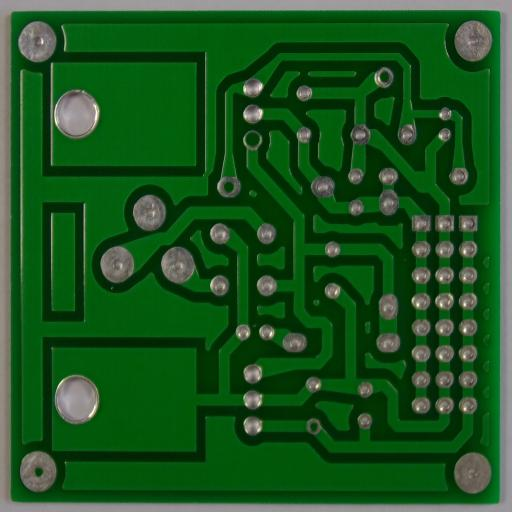missing_hole: (25, 456, 51, 485), (214, 176, 242, 198), (373, 65, 394, 88), (242, 129, 264, 150), (304, 416, 323, 436)
